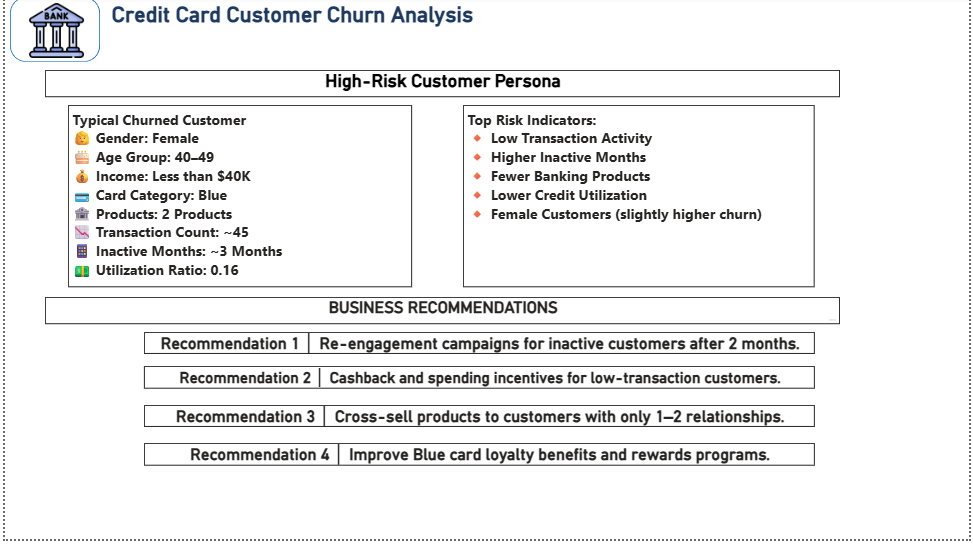

Layout of this report page (visuals, bound fields, positions):
{"tool":"powerbi","page":{"name":"High-Risk Persona & Recommendations","canvas":[1280,720],"ordinal":10},"visuals":[{"type":"shape","box":[6.1,0,119.7,86.3],"z":0},{"type":"image","box":[0,7.6,136.3,72.7],"z":1000},{"type":"textbox","title":"Credit Card Customer Churn Analysis","box":[136.3,6.1,808.9,37.9],"z":2000},{"type":"textbox","title":"High-Risk Customer Persona","box":[53,96.9,1055.8,36.4],"z":3000},{"type":"textbox","box":[83.3,143.9,457.5,242.4],"z":4000},{"type":"textbox","box":[608.9,143.9,466.6,242.4],"z":5000},{"type":"textbox","title":"  BUSINESS RECOMMENDATIONS ","box":[53,398.4,1055.8,36.4],"z":6000},{"type":"shape","title":"Recommendation 1 │ Re-engagement campaigns for inactive customers after 2 months.            ","box":[184.8,445.3,890.7,28.8],"z":7000},{"type":"shape","title":" Recommendation 2 │ Cashback and spending incentives for low-transaction customers. ","box":[184.8,490.8,890.7,30.3],"z":8000},{"type":"shape","title":"Recommendation 3 │ Cross-sell products to customers with only 1–2 relationships. ","box":[184.8,542.3,890.7,28.8],"z":9000},{"type":"shape","title":" Recommendation 4 │ Improve Blue card loyalty benefits and rewards programs.   ","box":[184.8,592.3,890.7,30.3],"z":10000}]}

Visuals, with their boxes in screenshot pixels (x1, y1, x2, y2), scaled from the page's 1280x720 canvas onto the 973x544 screenshot:
shape: <box>5,0,96,65</box>
image: <box>0,6,104,61</box>
"Credit Card Customer Churn Analysis" textbox: <box>104,5,718,33</box>
"High-Risk Customer Persona" textbox: <box>40,73,843,101</box>
textbox: <box>63,109,411,292</box>
textbox: <box>463,109,818,292</box>
"  BUSINESS RECOMMENDATIONS " textbox: <box>40,301,843,329</box>
"Recommendation 1 │ Re-engagement campaigns for inactive customers after 2 months.            " shape: <box>140,336,818,358</box>
" Recommendation 2 │ Cashback and spending incentives for low-transaction customers. " shape: <box>140,371,818,394</box>
"Recommendation 3 │ Cross-sell products to customers with only 1–2 relationships. " shape: <box>140,410,818,431</box>
" Recommendation 4 │ Improve Blue card loyalty benefits and rewards programs.   " shape: <box>140,448,818,470</box>
